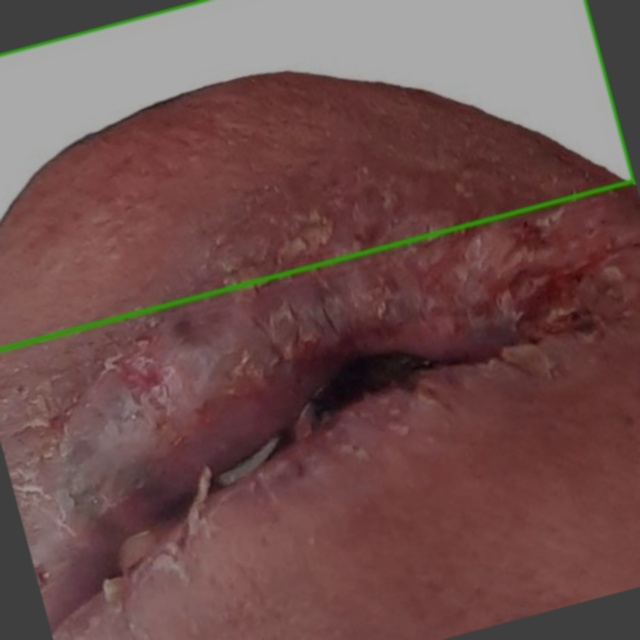Contact Dermatitis: (0, 0, 634, 349)
